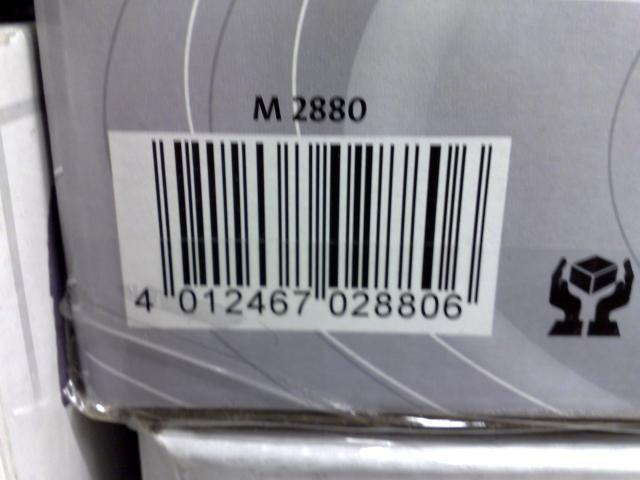Barcode: (127, 137, 495, 329)
